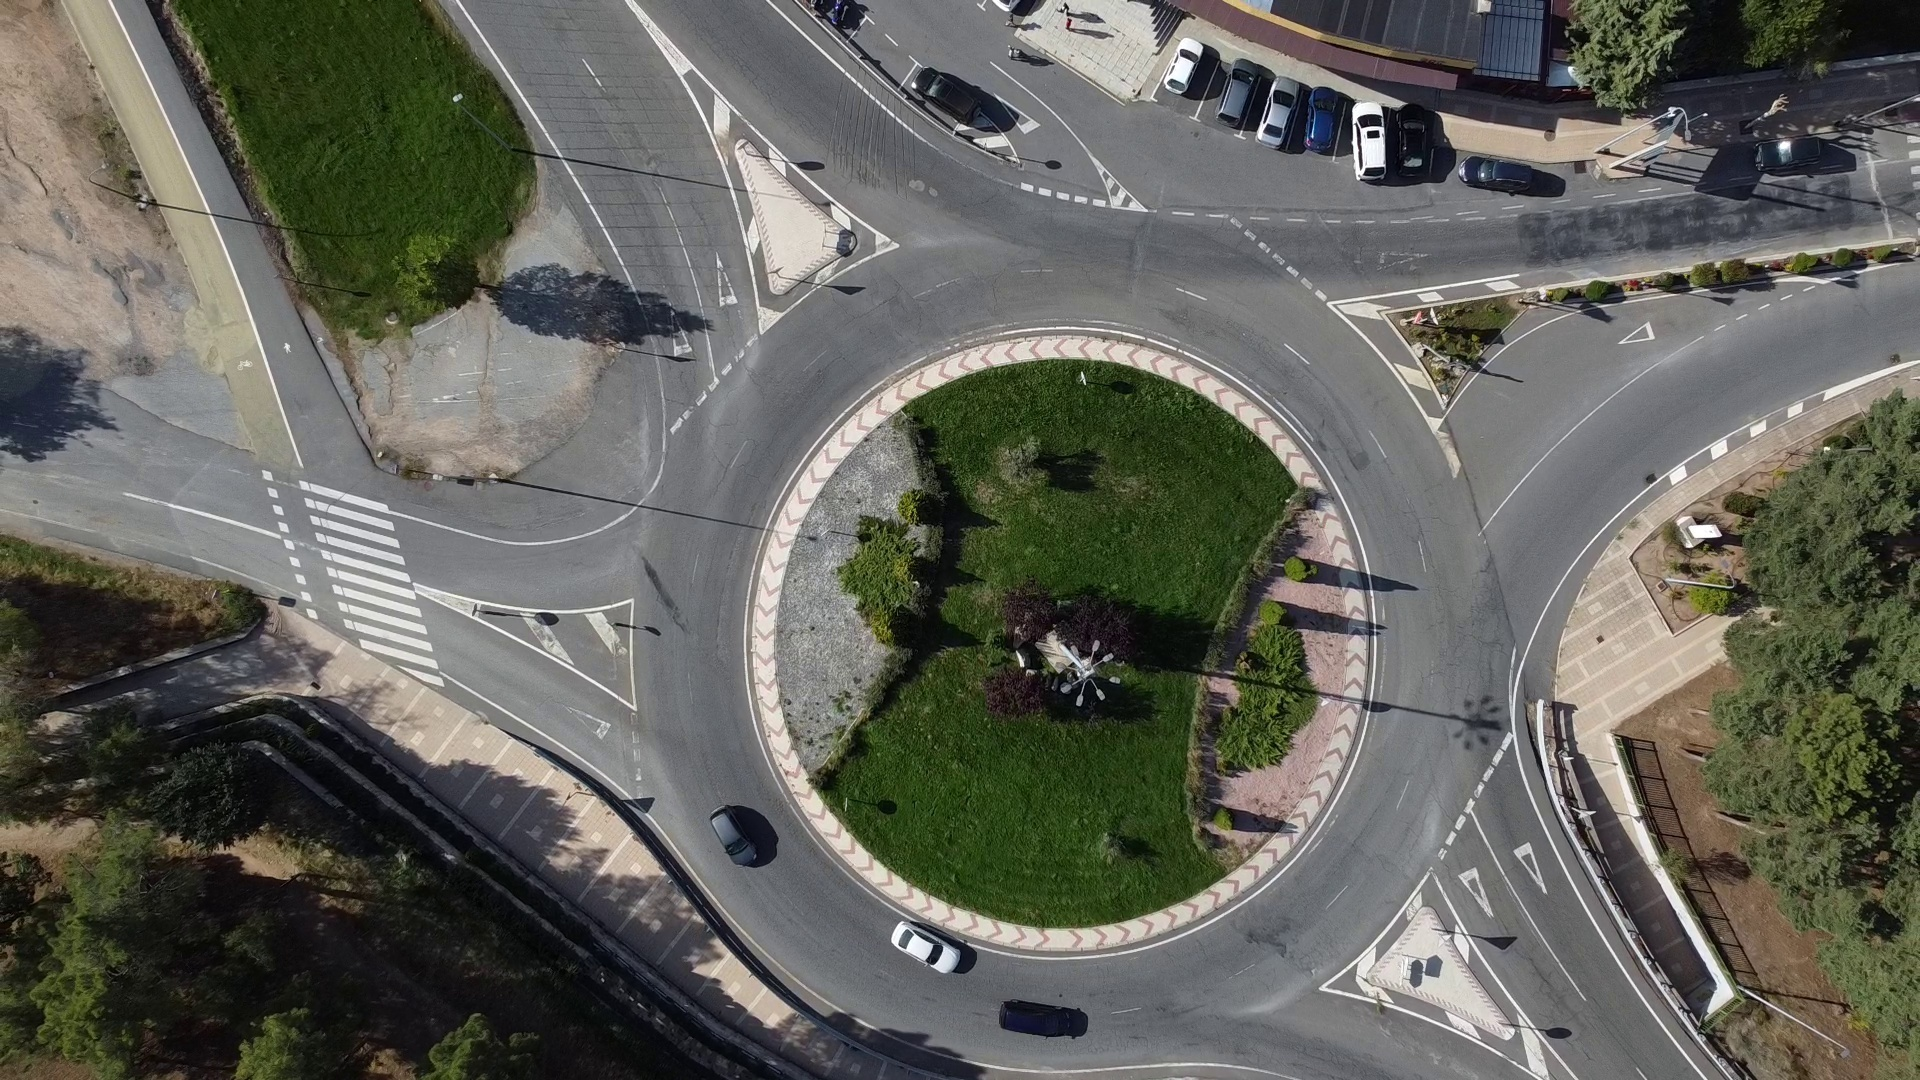vehicle: (909, 65, 982, 123), (887, 918, 957, 973), (703, 800, 761, 866), (1255, 75, 1300, 152), (1453, 153, 1534, 195), (996, 997, 1073, 1039), (1212, 61, 1258, 129), (1352, 99, 1387, 185), (1749, 133, 1824, 171), (1393, 105, 1431, 177), (1299, 86, 1338, 154), (1160, 38, 1203, 98)
